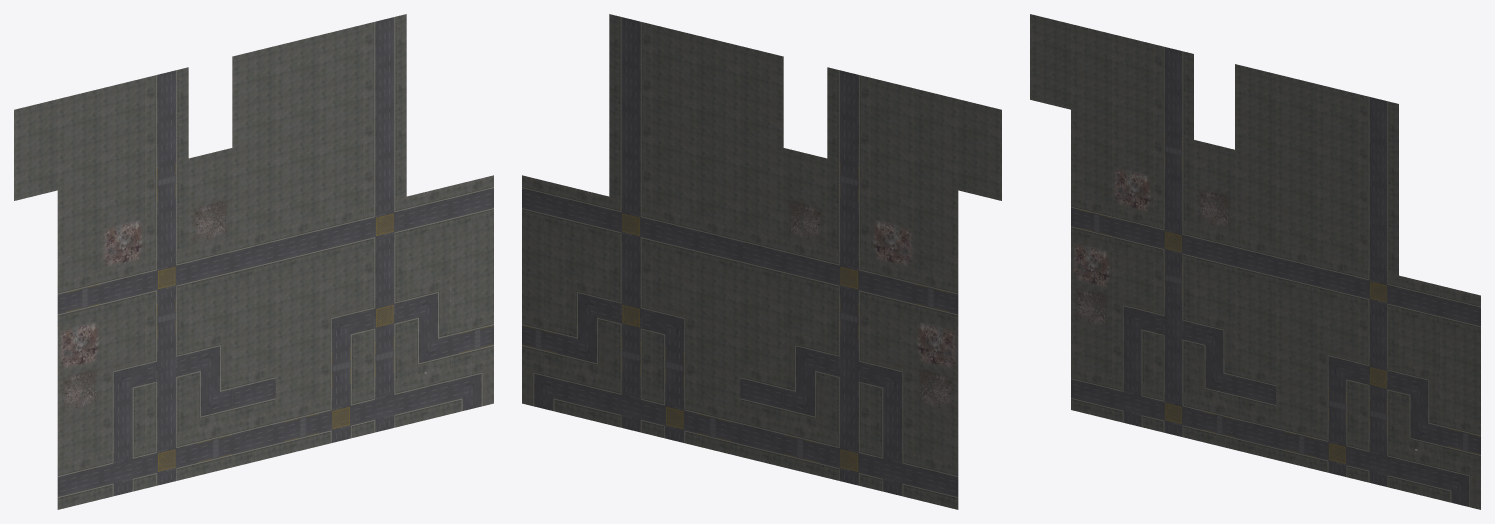
The model's file is urban_pavement_master_wtf.obj.
3 views of the same model, side by side, from view 1: azimuth 30°, elevation 25°; view 2: azimuth 150°, elevation 25°; view 3: azimuth 330°, elevation 25° (orthographic). The views are drawn at different scales.
Parts seen in each view (by area): view 1: group13, group7, group28, group37, group41, group45, group8, group9, group16, group19, group22, group30 (+70 smaller); view 2: group13, group7, group28, group37, group41, group45, group8, group9, group16, group19, group22, group30 (+70 smaller); view 3: group3, group5, group6, group7, group9, group11, group13, group14, group15, group16, group17, group18 (+70 smaller).
Part boxes in pixels (x1,y1,x2,y2): group13: [275, 172, 319, 228]; group7: [57, 225, 101, 281]; group28: [275, 35, 319, 91]; group37: [57, 362, 101, 418]; group41: [406, 277, 450, 333]; group45: [188, 330, 232, 386]; group8: [188, 193, 232, 249]; group9: [188, 148, 232, 203]; group16: [275, 126, 319, 182]; group19: [57, 134, 101, 190]; group22: [57, 88, 101, 144]; group30: [275, 309, 319, 365]; group13: [696, 172, 740, 228]; group7: [914, 225, 958, 281]; group28: [696, 35, 740, 91]; group37: [914, 362, 958, 418]; group41: [565, 277, 609, 333]; group45: [783, 330, 827, 386]; group8: [783, 193, 827, 249]; group9: [783, 148, 827, 203]; group16: [696, 126, 740, 182]; group19: [914, 134, 958, 190]; group22: [914, 88, 958, 144]; group30: [696, 309, 740, 365]; group3: [1235, 321, 1275, 373]; group5: [1071, 238, 1111, 291]; group6: [1112, 162, 1152, 215]; group7: [1071, 152, 1111, 205]; group9: [1194, 140, 1234, 192]; group11: [1071, 110, 1111, 162]; group13: [1276, 202, 1316, 255]; group14: [1317, 212, 1357, 265]; group15: [1235, 150, 1275, 202]; group16: [1276, 160, 1316, 212]; group17: [1317, 170, 1357, 222]; group18: [1030, 57, 1070, 109].
Size of the model in its own units: 660 by 540 by 1.64.
